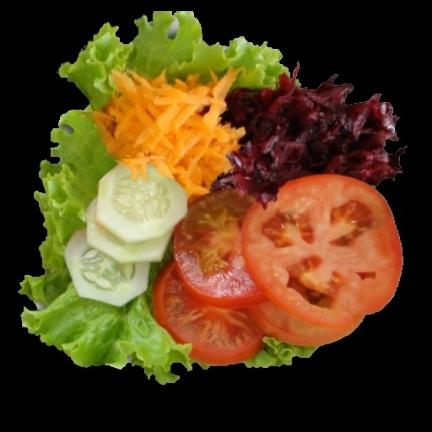beet: (213, 68, 403, 208)
carrot: (91, 68, 244, 197)
cucumber: (66, 164, 186, 305)
salad: (19, 108, 192, 383), (60, 11, 287, 109), (246, 338, 314, 364)
tomato: (153, 175, 402, 364)
